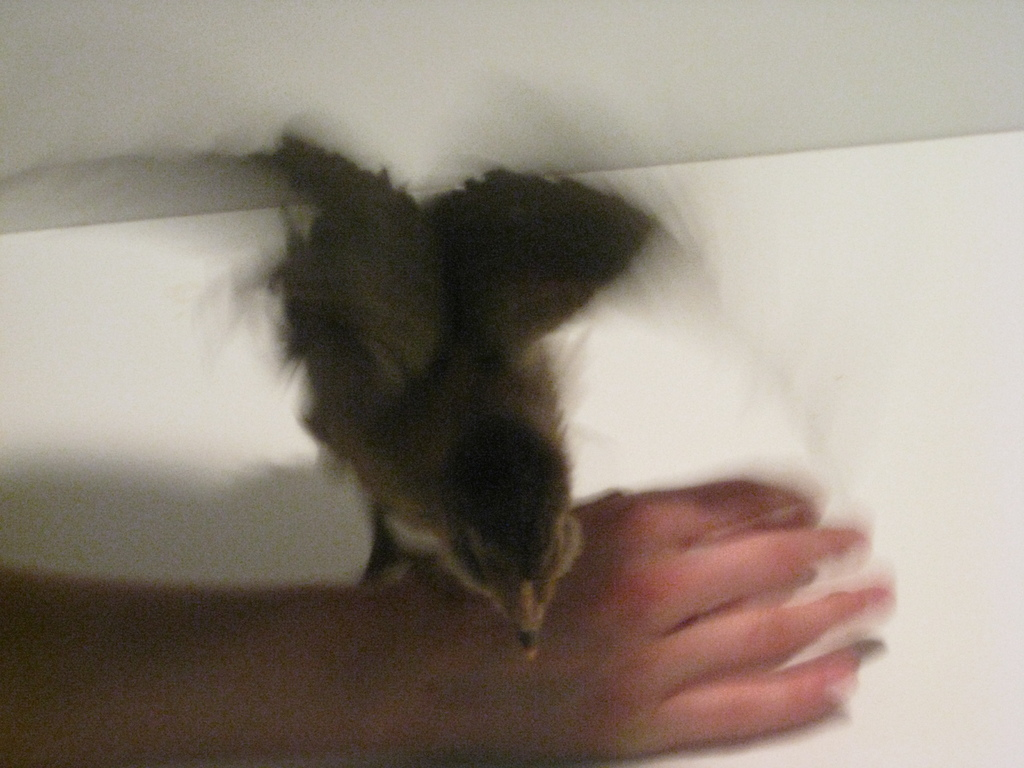Human_hand: (396, 478, 896, 764)
